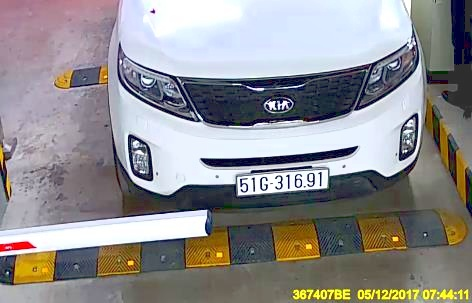plate: (233, 170, 334, 194)
